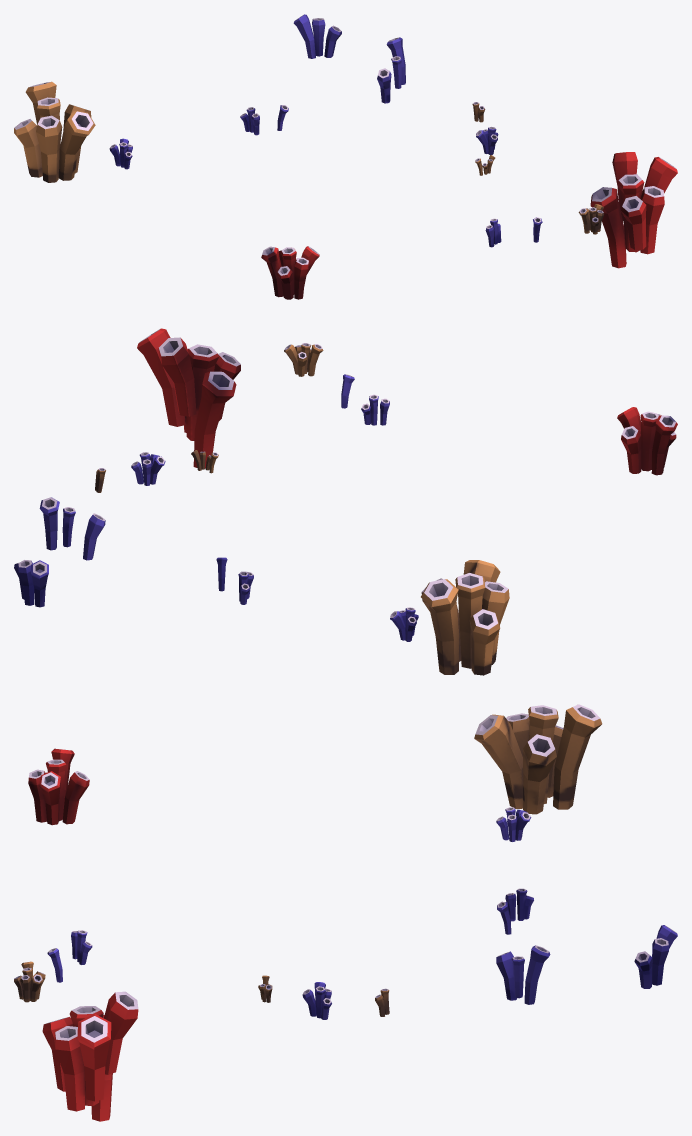
The model's file is Plant_01.FBX.
3 views of the same model, one above another, from view 1: azimuth 30°, elevation 25°; view 2: azimuth 150°, elevation 25°; view 3: azimuth 270°, elevation 25° (orthographic). The views are drawn at different scales.
Visible parts, largest first — view 1: Plant_01; view 2: Plant_01; view 3: Plant_01.
Part boxes in pixels (box(x1,y1,x2,y2)): Plant_01: box(14, 14, 677, 299); Plant_01: box(14, 328, 677, 675); Plant_01: box(14, 704, 677, 1121).
Bounding box in the file's own units: 24.44 × 6.75 × 23.38.
